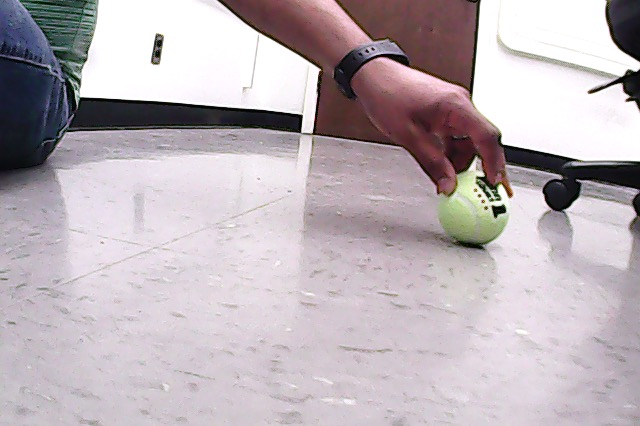ball: (434, 168, 514, 248)
